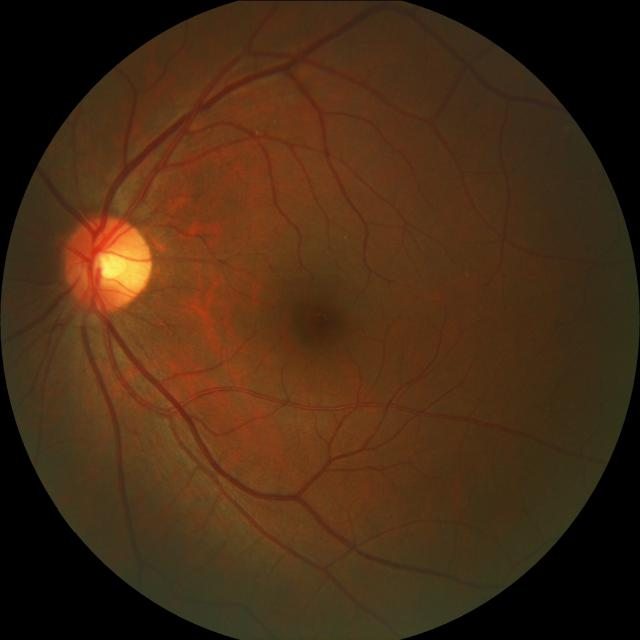OC: (89, 240, 132, 285)
OD: (63, 214, 154, 309)
